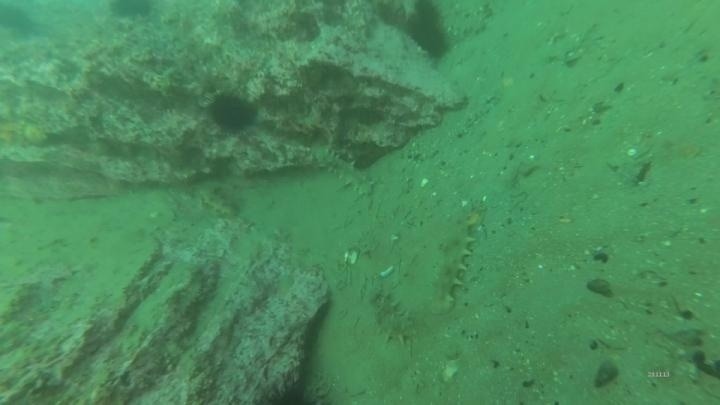echinus: (251, 364, 340, 405), (401, 1, 450, 61), (206, 89, 259, 135), (106, 1, 157, 23)
holothurian: (429, 207, 482, 314), (368, 280, 418, 346), (315, 146, 377, 199), (194, 182, 244, 222)
